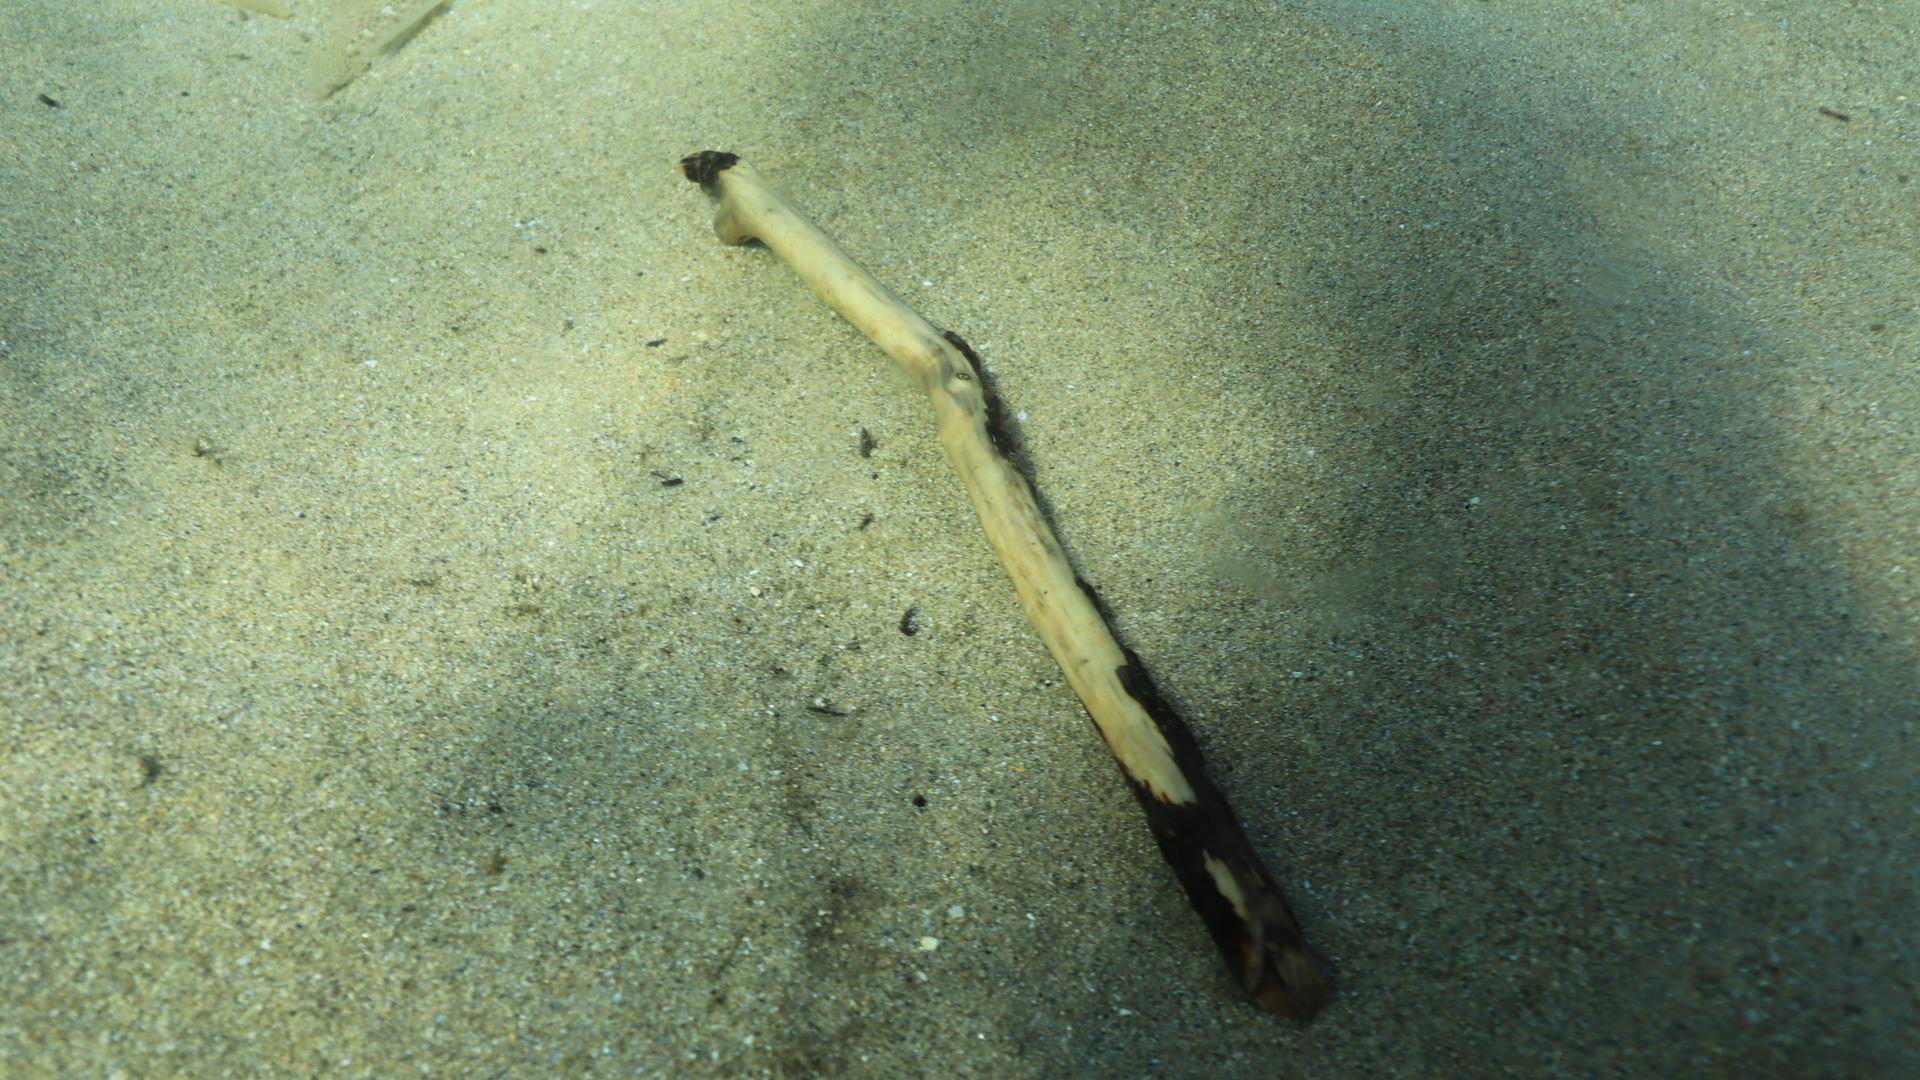wood: (678, 149, 1338, 1029)
